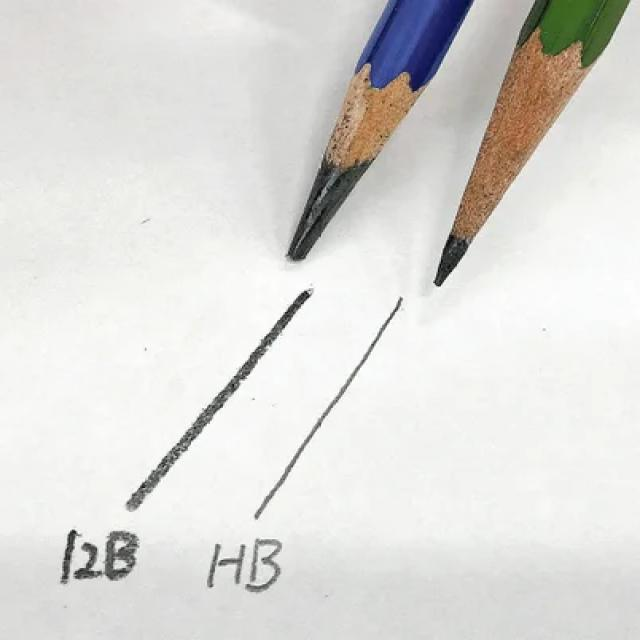pencil: (418, 0, 640, 314), (272, 0, 480, 269)
